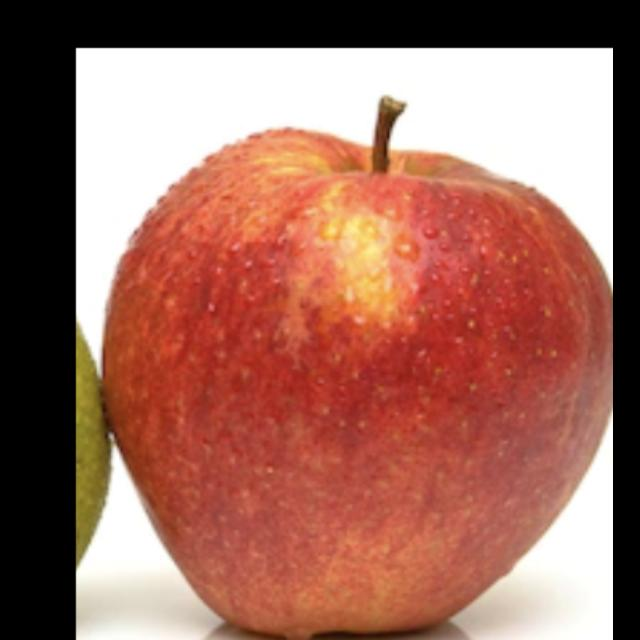Apel Segar: (94, 86, 612, 634)
